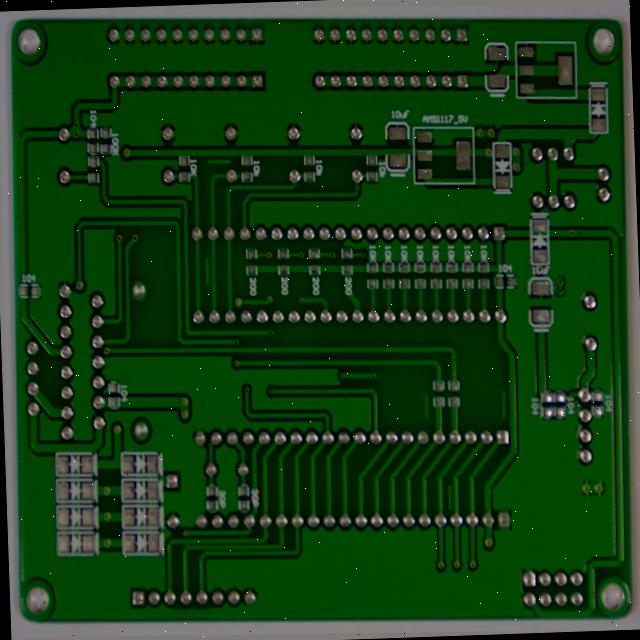spurious_copper: (199, 253, 211, 293), (200, 152, 231, 167), (502, 384, 514, 421), (423, 389, 435, 422), (449, 480, 460, 514)
